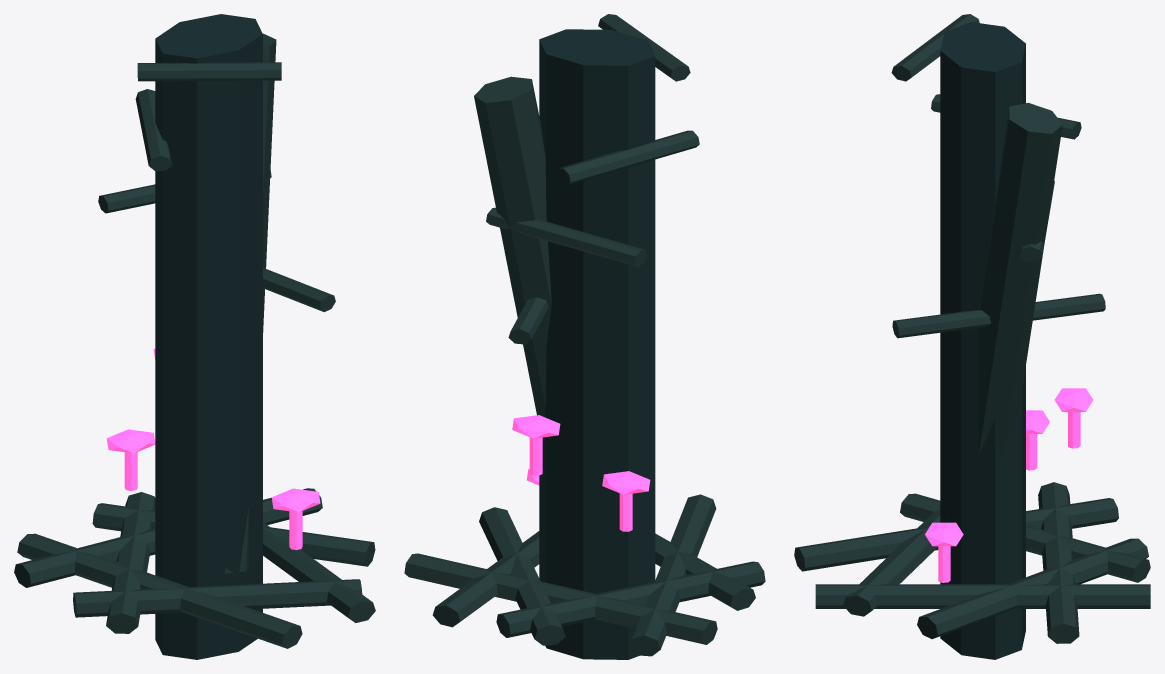
The model's file is df_v2_ancient_tree_blocker_a.glb.
The picture shows the model from 3 angles, left to right: view 1: azimuth 30°, elevation 25°; view 2: azimuth 150°, elevation 25°; view 3: azimuth 270°, elevation 25°; orthographic projection. The views are drawn at different scales.
Parts seen in each view (by area): view 1: massive_twisted_trunk, giant_surface_root_4, giant_surface_root_5, giant_surface_root_3, giant_surface_root_2, giant_surface_root_0, giant_surface_root_1, crooked_branch_3, second_twist_trunk, crooked_branch_2, crooked_branch_0, crooked_branch_1 (+4 smaller); view 2: massive_twisted_trunk, second_twist_trunk, giant_surface_root_2, giant_surface_root_3, giant_surface_root_4, giant_surface_root_1, crooked_branch_1, crooked_branch_2, giant_surface_root_0, giant_surface_root_5, crooked_branch_3, crooked_branch_0 (+4 smaller); view 3: massive_twisted_trunk, second_twist_trunk, giant_surface_root_0, giant_surface_root_1, giant_surface_root_4, giant_surface_root_2, crooked_branch_0, giant_surface_root_3, giant_surface_root_5, crooked_branch_3, trunk_fungus_0_cap, trunk_fungus_2_cap (+1 smaller).
Boxes of the visible parts, bbox=[...] form: massive_twisted_trunk: bbox=[155, 14, 262, 659]; giant_surface_root_4: bbox=[17, 533, 302, 648]; giant_surface_root_5: bbox=[73, 579, 362, 617]; giant_surface_root_3: bbox=[106, 492, 155, 633]; giant_surface_root_2: bbox=[14, 488, 322, 587]; giant_surface_root_0: bbox=[263, 522, 375, 622]; giant_surface_root_1: bbox=[92, 503, 375, 566]; crooked_branch_3: bbox=[137, 62, 281, 81]; second_twist_trunk: bbox=[224, 33, 276, 573]; crooked_branch_2: bbox=[135, 89, 172, 171]; crooked_branch_0: bbox=[263, 268, 335, 312]; crooked_branch_1: bbox=[98, 171, 271, 213]; massive_twisted_trunk: bbox=[539, 29, 655, 659]; second_twist_trunk: bbox=[474, 76, 551, 416]; giant_surface_root_2: bbox=[404, 553, 717, 644]; giant_surface_root_3: bbox=[496, 561, 765, 637]; giant_surface_root_4: bbox=[629, 494, 716, 656]; giant_surface_root_1: bbox=[479, 507, 565, 645]; crooked_branch_1: bbox=[486, 207, 647, 266]; crooked_branch_2: bbox=[557, 130, 699, 185]; giant_surface_root_0: bbox=[432, 531, 539, 627]; giant_surface_root_5: bbox=[655, 533, 755, 610]; crooked_branch_3: bbox=[598, 14, 690, 81]; crooked_branch_0: bbox=[508, 297, 548, 344]; massive_twisted_trunk: bbox=[940, 22, 1025, 659]; second_twist_trunk: bbox=[947, 102, 1062, 522]; giant_surface_root_0: bbox=[815, 584, 1150, 608]; giant_surface_root_1: bbox=[917, 538, 1148, 639]; giant_surface_root_4: bbox=[794, 498, 1118, 571]; giant_surface_root_2: bbox=[1038, 482, 1079, 643]; crooked_branch_0: bbox=[892, 293, 1105, 338]; giant_surface_root_3: bbox=[900, 493, 1150, 582]; giant_surface_root_5: bbox=[843, 510, 940, 616]; crooked_branch_3: bbox=[891, 14, 979, 81]; trunk_fungus_0_cap: bbox=[925, 522, 963, 546]; trunk_fungus_2_cap: bbox=[1054, 388, 1093, 411].
Bounding box in the file's own units: 1.55 × 3 × 1.65.
